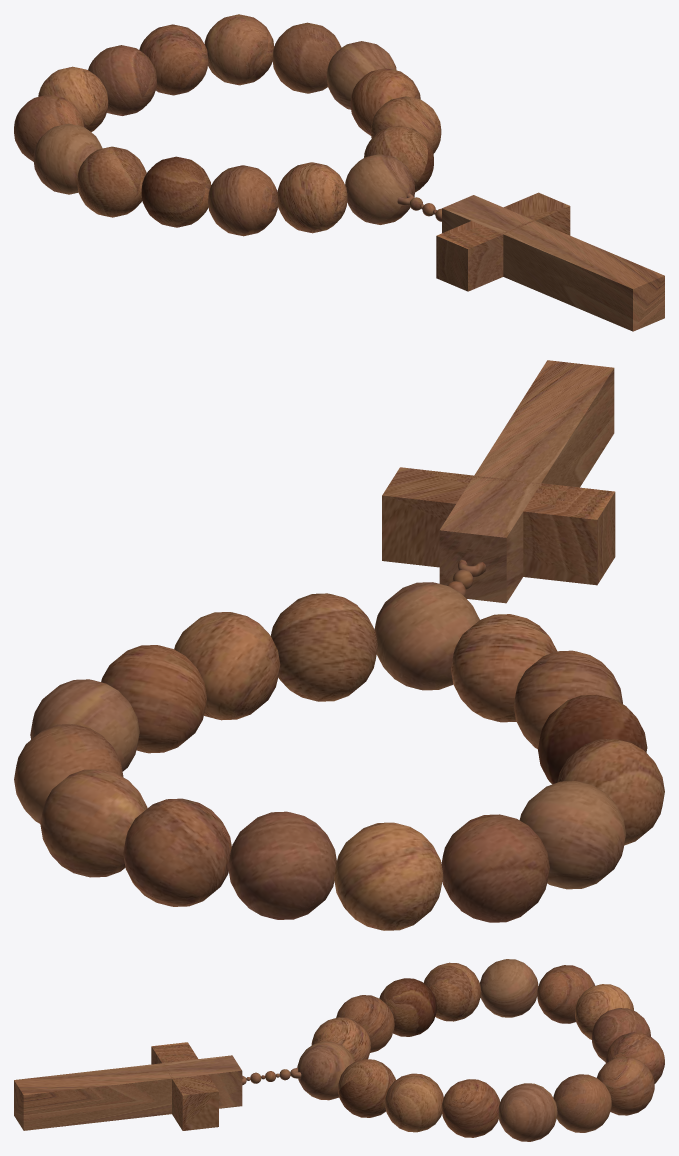
File: RosaryFBX.fbx
3 renders of one model, top to bottom at view 1: azimuth 30°, elevation 25°; view 2: azimuth 150°, elevation 25°; view 3: azimuth 270°, elevation 25°, orthographic. The views are drawn at different scales.
Visible parts, largest first — view 1: polySurface13; view 2: polySurface13; view 3: polySurface13.
Boxes of the visible parts, x1,y1,x2,y2 form: polySurface13: (14,14,664,331); polySurface13: (14,360,664,930); polySurface13: (14,959,664,1141).
Bounding box in the file's own units: 1.8 × 0.3025 × 3.31.
1 material, 1 textured.
